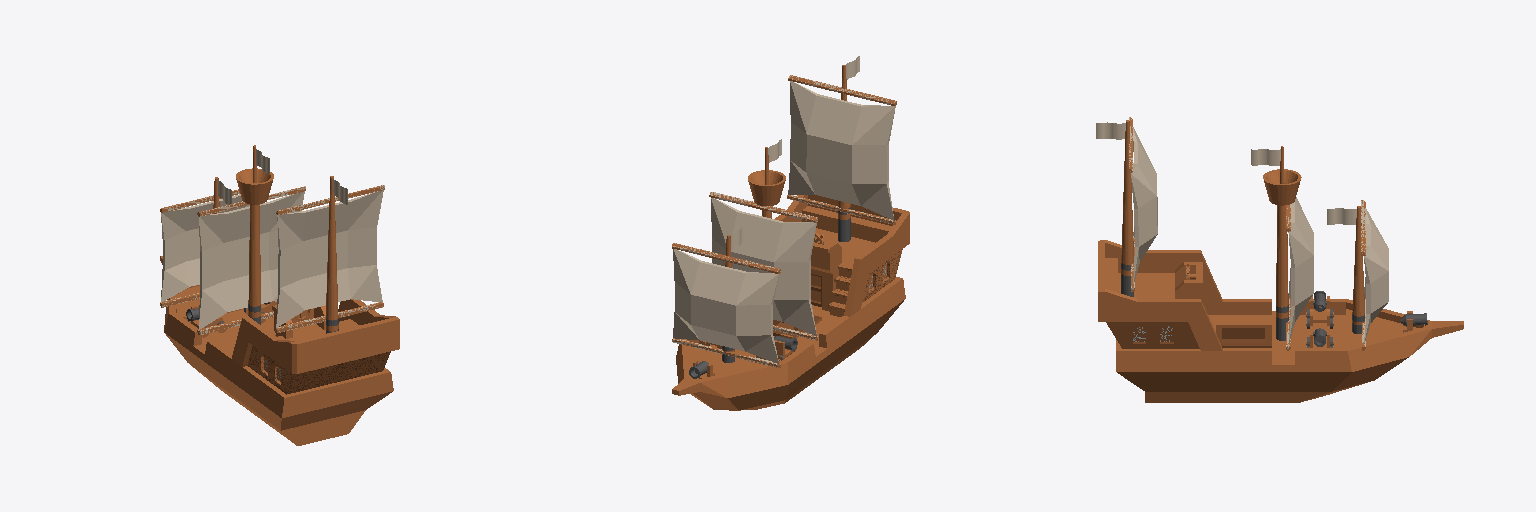
File: ship_light.obj
The picture shows the model from 3 angles: view 1: azimuth 30°, elevation 25°; view 2: azimuth 150°, elevation 25°; view 3: azimuth 270°, elevation 25°; orthographic projection.
Visible parts, largest first — view 1: ship_light cannon_front 1_1 cannon_left 1_1 cannon_left 1_1 cann, ship_light_4 sail_back 1 sail_front 1 sail_middle 1, ship_light_1; view 2: ship_light_4 sail_back 1 sail_front 1 sail_middle 1, ship_light cannon_front 1_1 cannon_left 1_1 cannon_left 1_1 cann, ship_light_2 cannon_front 1 cannon_front 1 cannon_left 1 cannon_; view 3: ship_light cannon_front 1_1 cannon_left 1_1 cannon_left 1_1 cann, ship_light_4 sail_back 1 sail_front 1 sail_middle 1, ship_light_1, ship_light_2 cannon_front 1 cannon_front 1 cannon_left 1 cannon_.
Boxes of the visible parts, <box> form: ship_light cannon_front 1_1 cannon_left 1_1 cannon_left 1_1 cann: <box>160,145,399,445</box>; ship_light_4 sail_back 1 sail_front 1 sail_middle 1: <box>160,149,384,334</box>; ship_light_1: <box>248,335,390,393</box>; ship_light_4 sail_back 1 sail_front 1 sail_middle 1: <box>672,56,895,367</box>; ship_light cannon_front 1_1 cannon_left 1_1 cannon_left 1_1 cann: <box>672,65,909,410</box>; ship_light_2 cannon_front 1 cannon_front 1 cannon_left 1 cannon_: <box>689,207,850,378</box>; ship_light cannon_front 1_1 cannon_left 1_1 cannon_left 1_1 cann: <box>1098,117,1463,402</box>; ship_light_4 sail_back 1 sail_front 1 sail_middle 1: <box>1096,117,1388,350</box>; ship_light_1: <box>1106,322,1271,348</box>; ship_light_2 cannon_front 1 cannon_front 1 cannon_left 1 cannon_: <box>1121,263,1427,347</box>.
Bounding box in the file's own units: 28.5 × 65.46 × 80.98.